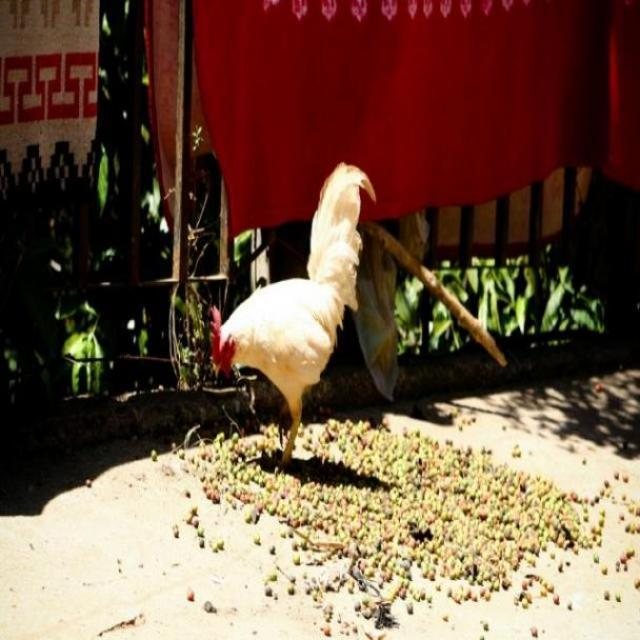Chicken: (210, 153, 377, 469)
